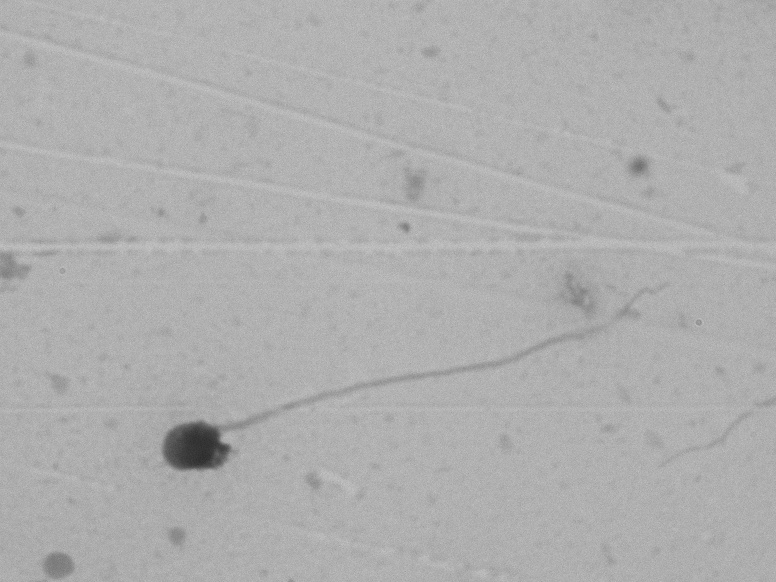Abnormal: (125, 309, 652, 489)
